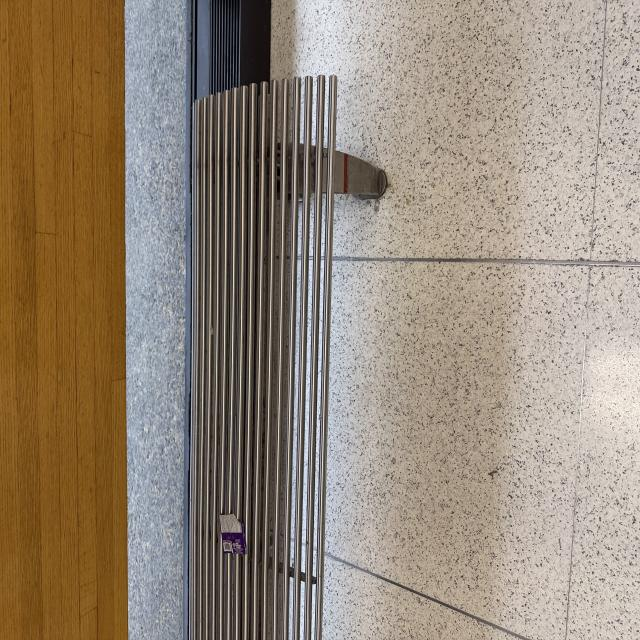Bench: (11, 244, 436, 511)
